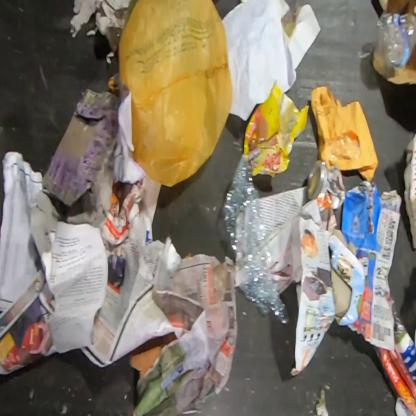cardboard: (41, 88, 122, 209), (129, 332, 178, 379)
metal: (307, 157, 349, 212)
rigid_plastic: (222, 154, 290, 324), (376, 10, 416, 69)
soft_plastic: (120, 1, 234, 191), (243, 80, 310, 178)
